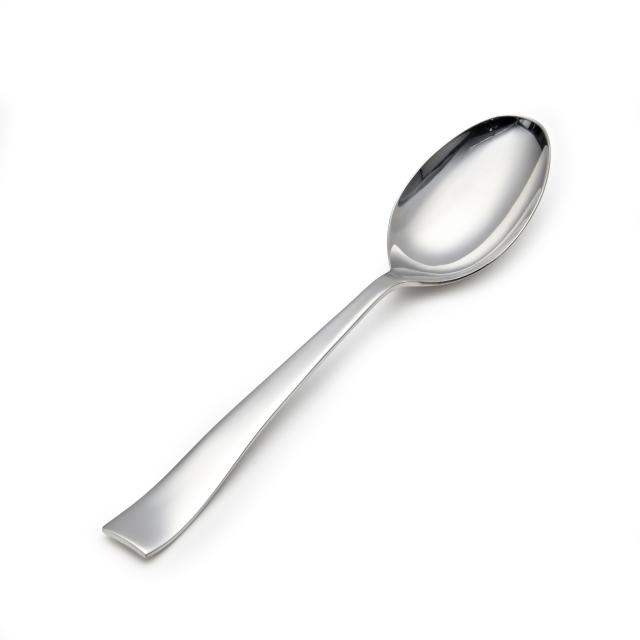spoon: (93, 105, 561, 568)
